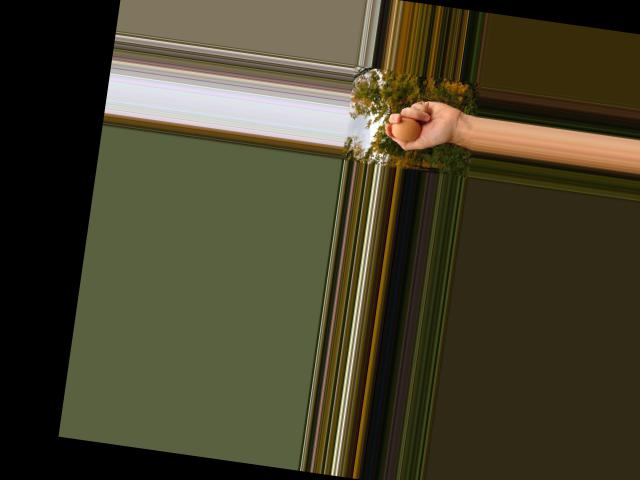egg: (390, 114, 422, 142)
